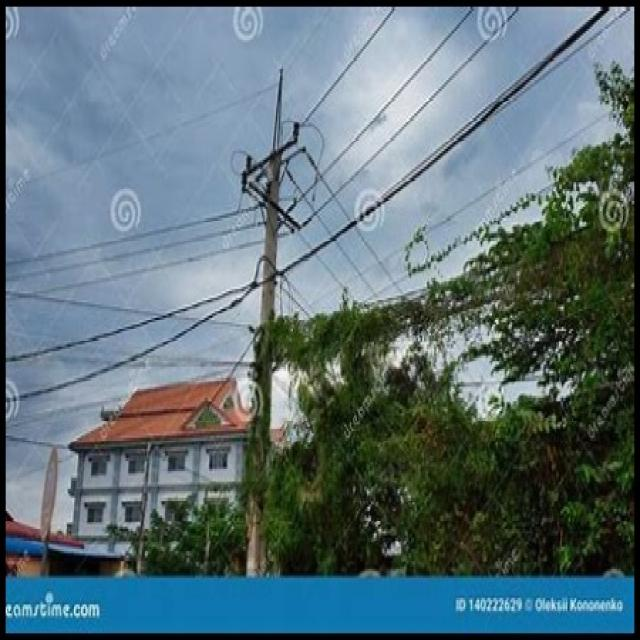critical vegetation: (273, 242, 639, 432)
